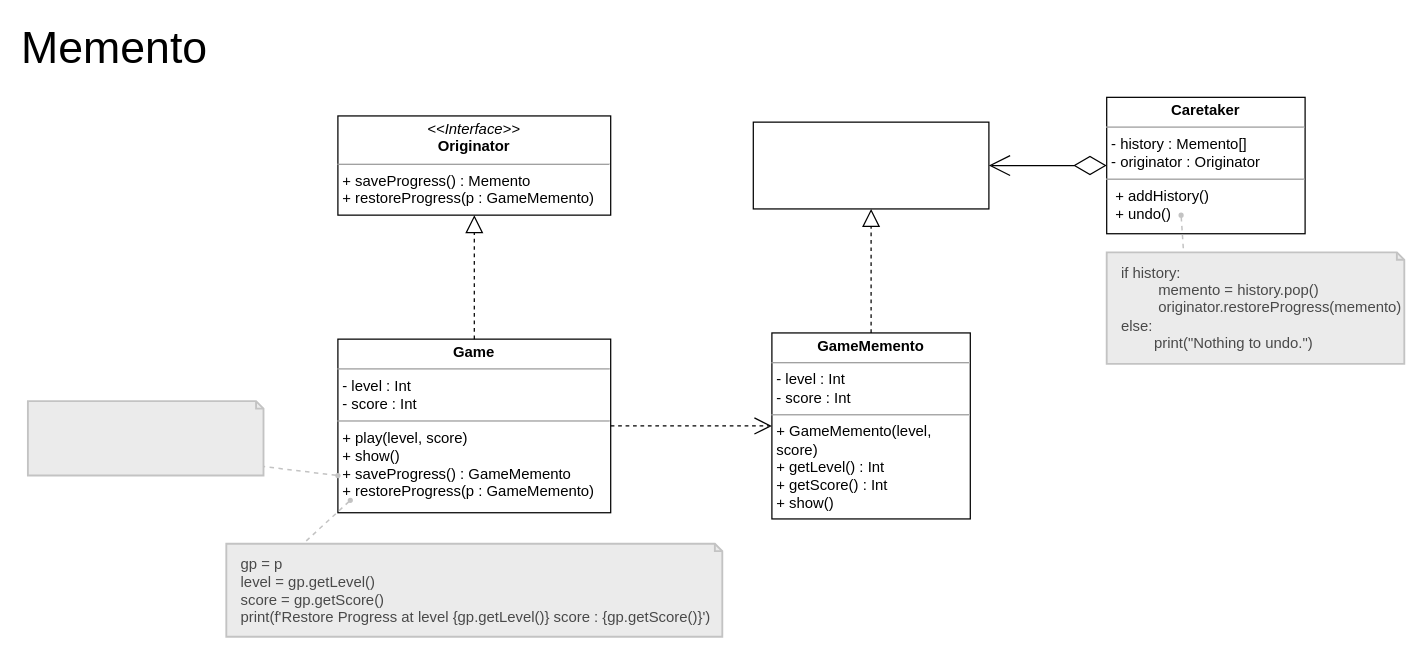
This 1426x660 diagram has some shape labels left out. Here are the shapes that lost their labels. From the top down, the centre of each, then its label:
the point at 870,165: <<Interface>> Memento + show()
the point at 145,438: print(f'Save Progress') return GameMemento(level, score)
